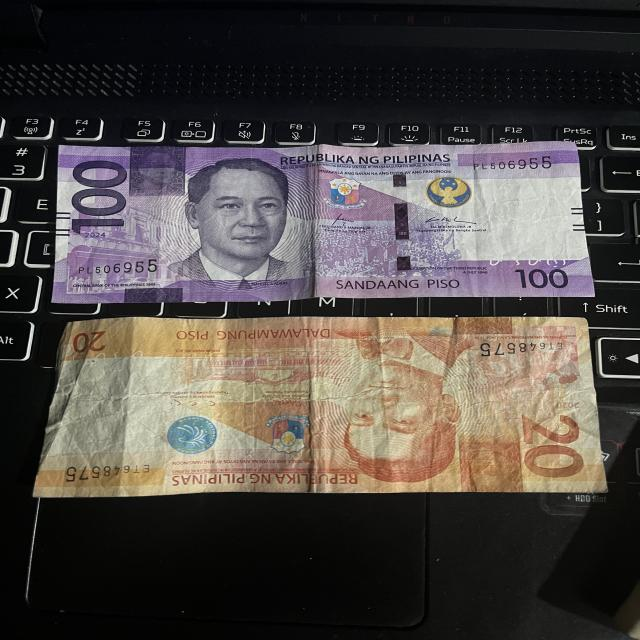concealed_value: (460, 432, 524, 488), (130, 146, 185, 194)
security_thread: (388, 144, 414, 296)
see_through_mark: (475, 246, 569, 272)
serial_number: (49, 456, 162, 491), (476, 333, 567, 368), (466, 147, 558, 178), (70, 252, 167, 279)
value: (64, 150, 134, 246), (509, 408, 593, 487)
